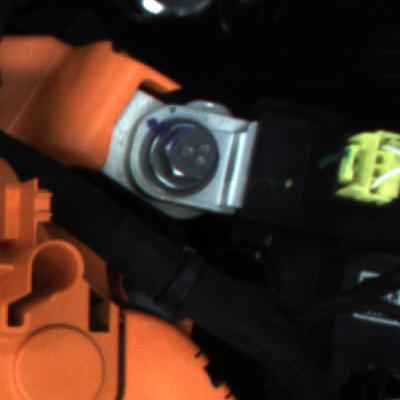nut_b: (135, 117, 232, 196)
